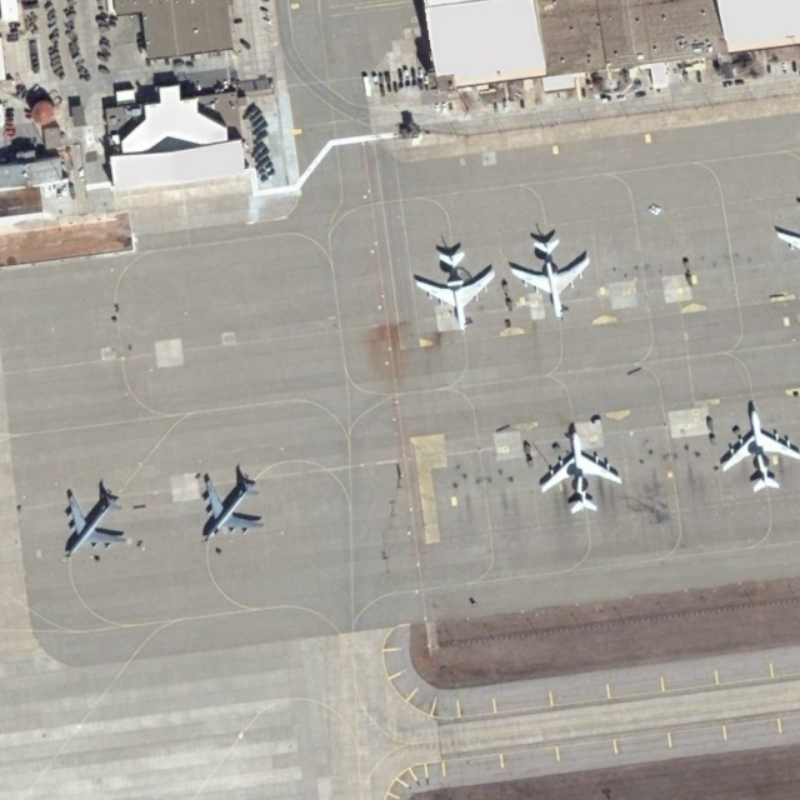A14: (55, 478, 135, 558), (198, 466, 268, 545)
A7: (405, 233, 503, 338), (534, 421, 638, 519), (509, 224, 596, 326), (715, 400, 800, 495)
